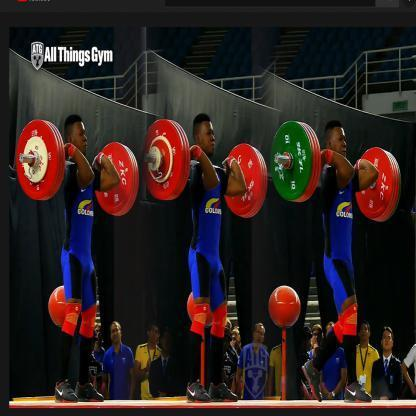barbell: (143, 118, 268, 221), (272, 121, 400, 221), (14, 117, 138, 216)
